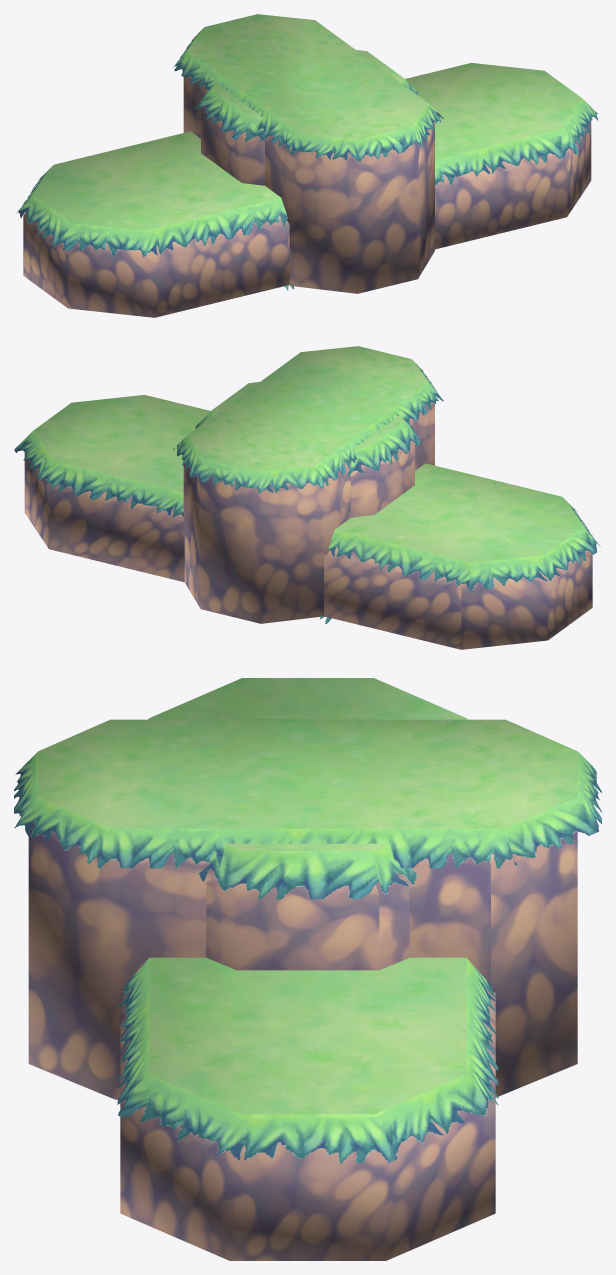
Rendered from puzzle_prop_terrain_0821.fbx.
3 views of the same model, one above another, from view 1: azimuth 30°, elevation 25°; view 2: azimuth 150°, elevation 25°; view 3: azimuth 270°, elevation 25° (orthographic). The views are drawn at different scales.
Parts seen in each view (by area): view 1: Puzzle_Terrain_Side03, Puzzle_Terrain_Side02, Puzzle_Terrain_Side01; view 2: Puzzle_Terrain_Side03, Puzzle_Terrain_Side02, Puzzle_Terrain_Side01; view 3: Puzzle_Terrain_Side02, Puzzle_Terrain_Side03, Puzzle_Terrain_Side01.
Boxes of the visible parts, <box> form: Puzzle_Terrain_Side03: <box>16,63,597,317</box>; Puzzle_Terrain_Side02: <box>173,14,443,293</box>; Puzzle_Terrain_Side01: <box>195,50,418,185</box>; Puzzle_Terrain_Side03: <box>14,395,600,649</box>; Puzzle_Terrain_Side02: <box>173,346,443,623</box>; Puzzle_Terrain_Side01: <box>195,382,420,517</box>; Puzzle_Terrain_Side02: <box>14,719,601,1099</box>; Puzzle_Terrain_Side03: <box>117,678,498,1260</box>; Puzzle_Terrain_Side01: <box>198,719,417,970</box>.
Bounding box in the file's own units: 25.68 × 7.12 × 13.78.
